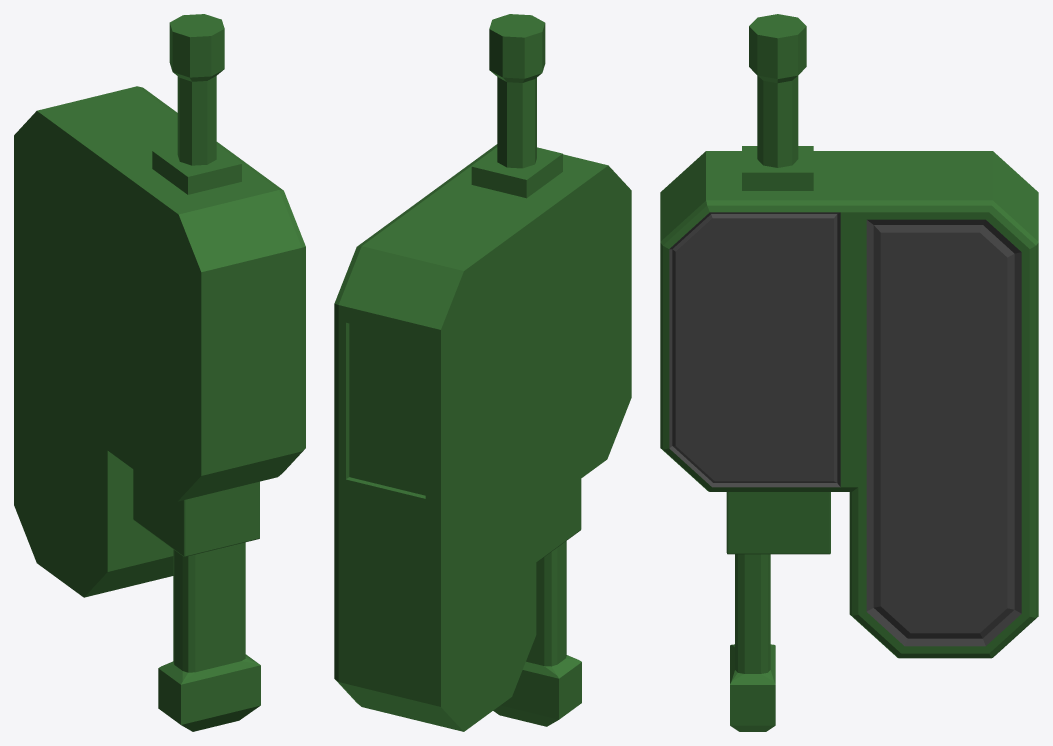
The model's file is Datapad.fbx.
3 renders of one model, left to right at view 1: azimuth 30°, elevation 25°; view 2: azimuth 150°, elevation 25°; view 3: azimuth 270°, elevation 25°, orthographic.
Visible parts, largest first — view 1: Cube; view 2: Cube; view 3: Cube.
Boxes of the visible parts, x1,y1,x2,y2 form: Cube: (14, 14, 305, 731); Cube: (334, 14, 631, 731); Cube: (660, 14, 1038, 731).
Size of the model in its own units: 30 by 60.72 by 10.
